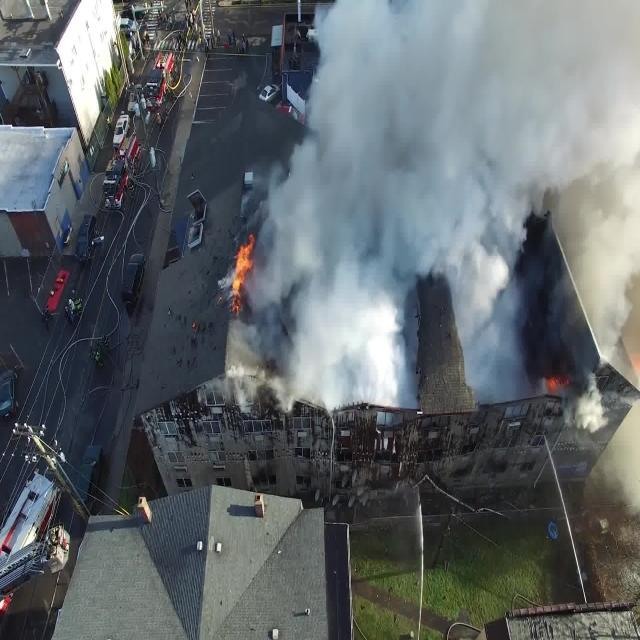Fire: (234, 238, 248, 316)
Smoke: (245, 1, 638, 397)
